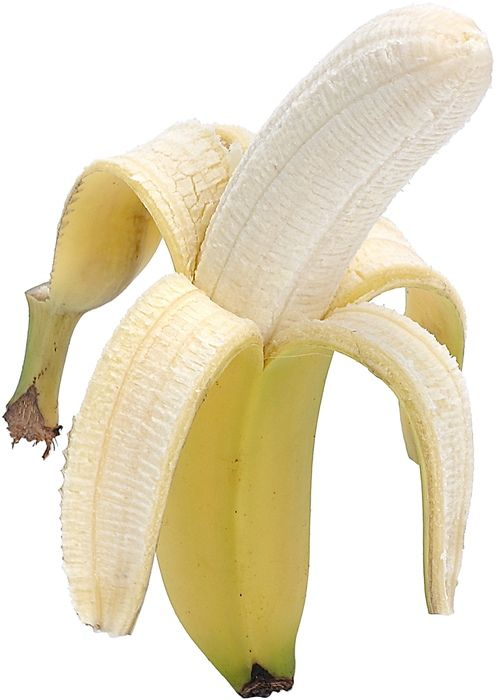banana: (8, 6, 484, 700)
